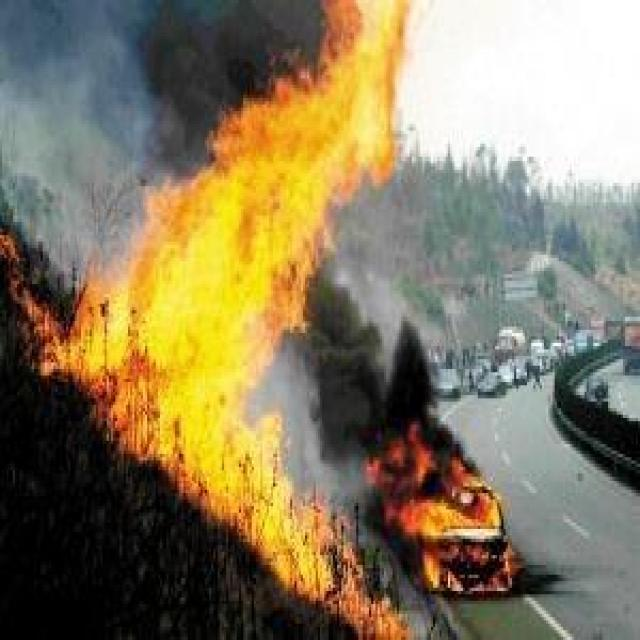fire: (12, 4, 400, 631), (370, 416, 512, 605)
smoke: (108, 1, 317, 141), (305, 258, 434, 469)
